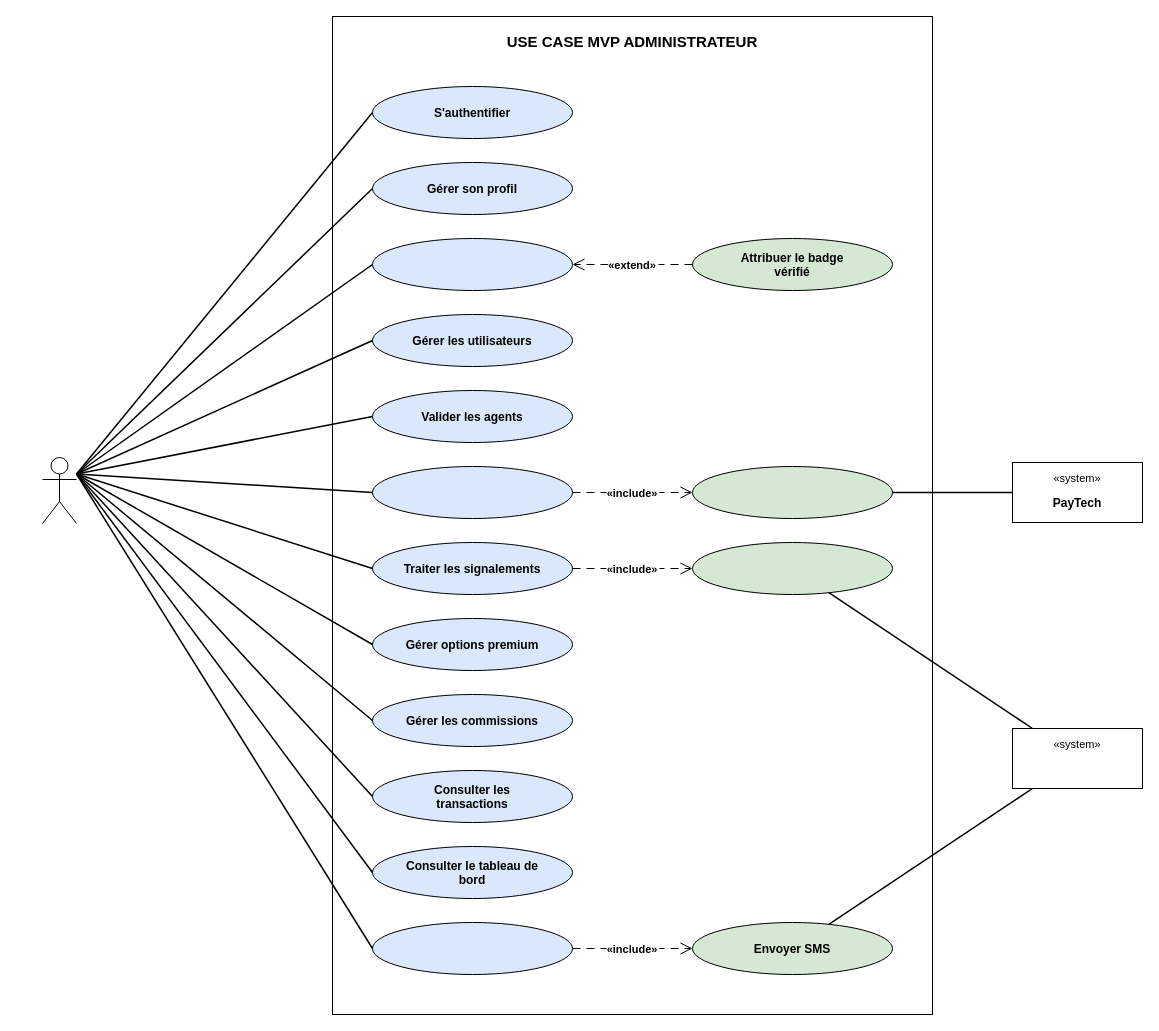
This 1159x1031 diagram has some shape labels left out. The shapes that lost their labels are listed below. From the top down, each one's box as (x1, y1, x2, y2) in pixels, then its label:
(372, 238, 572, 290): Modérer les annonces
(42, 456, 76, 524): Administrateur
(372, 466, 572, 518): Valider les retraits
(692, 466, 892, 518): Verser les fonds
(692, 542, 892, 594): Notifier les parties
(1012, 728, 1142, 788): Service Notification
(372, 922, 572, 974): Envoyer des notifications
